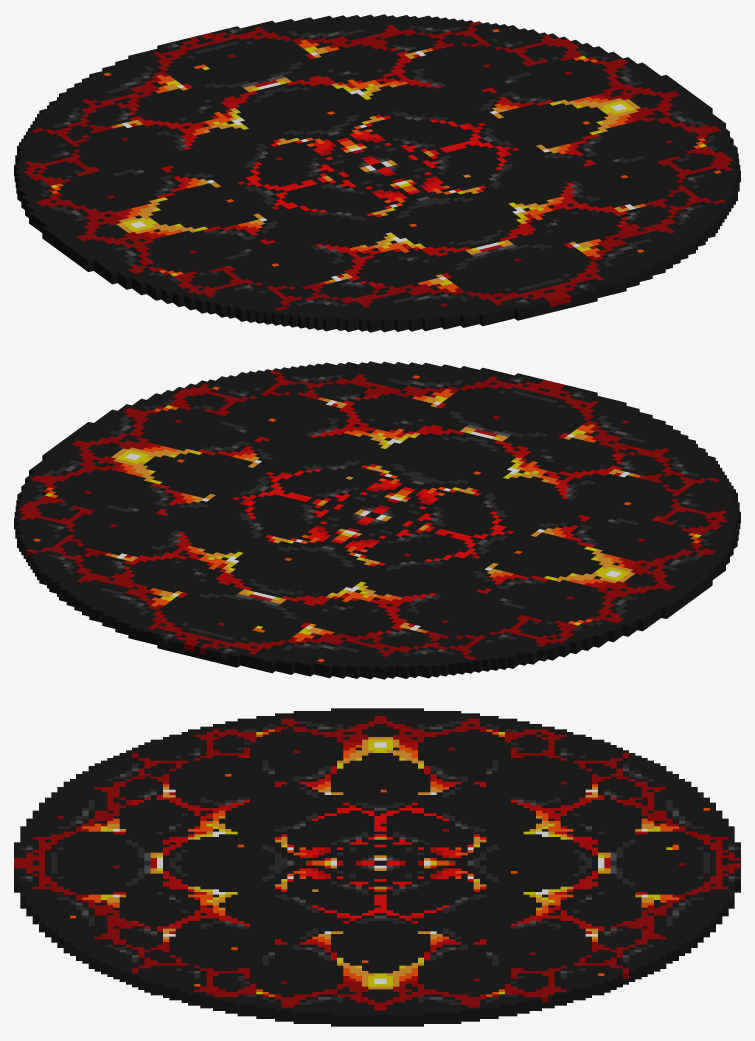
Rendered from lava_field.obj.
3 renders of one model, top to bottom at view 1: azimuth 30°, elevation 25°; view 2: azimuth 150°, elevation 25°; view 3: azimuth 270°, elevation 25°, orthographic.
Visible parts, largest first — view 1: lava_field; view 2: lava_field; view 3: lava_field.
Boxes of the visible parts, x1,y1,x2,y2 form: lava_field: (14,14,740,332); lava_field: (14,361,740,679); lava_field: (14,708,740,1026).
Bounding box in the file's own units: 117 × 2 × 117.
Materials: 1 (1 with a texture image).
